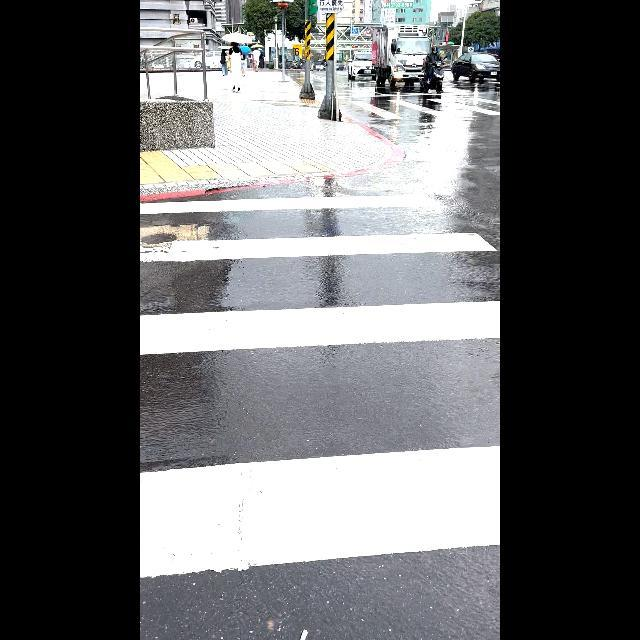sidewalk: (140, 182, 500, 637)
